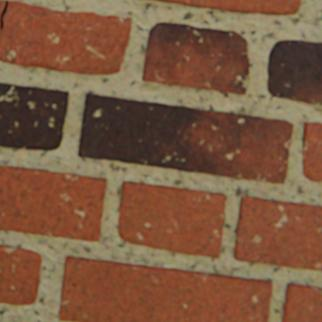brick: (78, 93, 291, 183), (58, 255, 271, 321), (0, 1, 130, 74), (117, 180, 225, 256), (0, 164, 106, 240), (141, 22, 248, 93), (232, 195, 321, 269), (0, 83, 68, 149), (266, 40, 321, 104), (0, 244, 41, 303), (155, 0, 299, 15), (280, 282, 321, 321), (301, 121, 321, 180), (0, 0, 5, 13)
crack: (0, 0, 8, 28)
